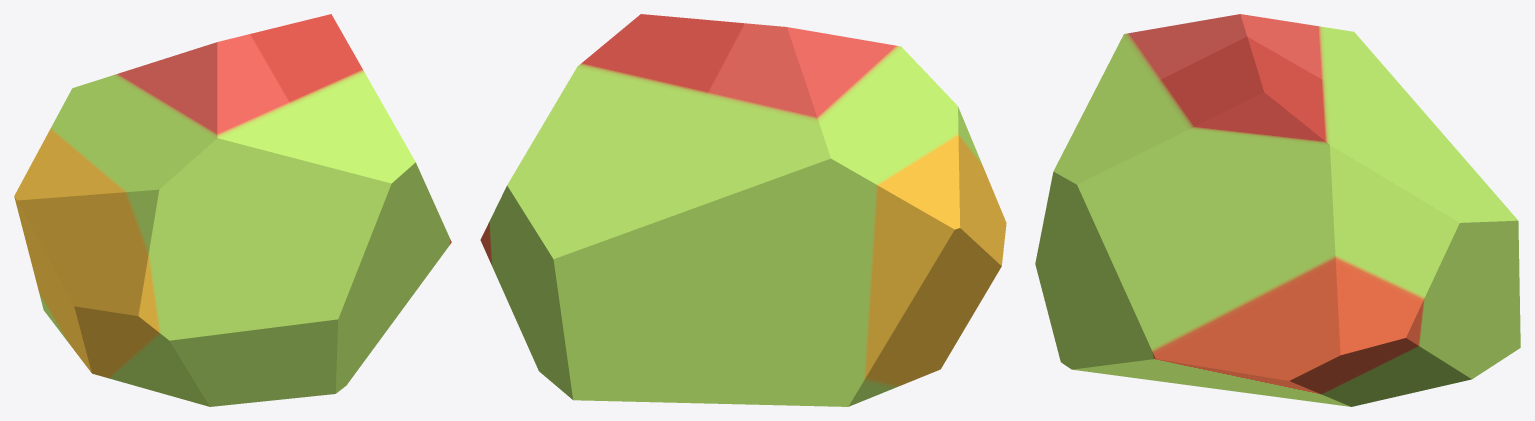
The model's file is rock_.fbx.
3 views of the same model, side by side, from view 1: azimuth 30°, elevation 25°; view 2: azimuth 150°, elevation 25°; view 3: azimuth 270°, elevation 25° (orthographic). The views are drawn at different scales.
Visible parts, largest first — view 1: rock_; view 2: rock_; view 3: rock_.
Boxes of the visible parts, bbox=[...] form: rock_: bbox=[14, 14, 451, 406]; rock_: bbox=[480, 14, 1006, 406]; rock_: bbox=[1035, 14, 1520, 406].
Size of the model in its own units: 81.01 by 57.17 by 76.51.
